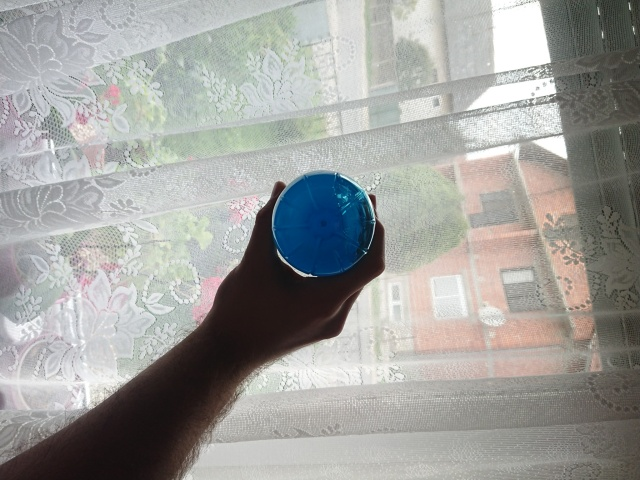Vindi Iso Sport Forest Strawberries 500mL: (269, 168, 378, 279)
